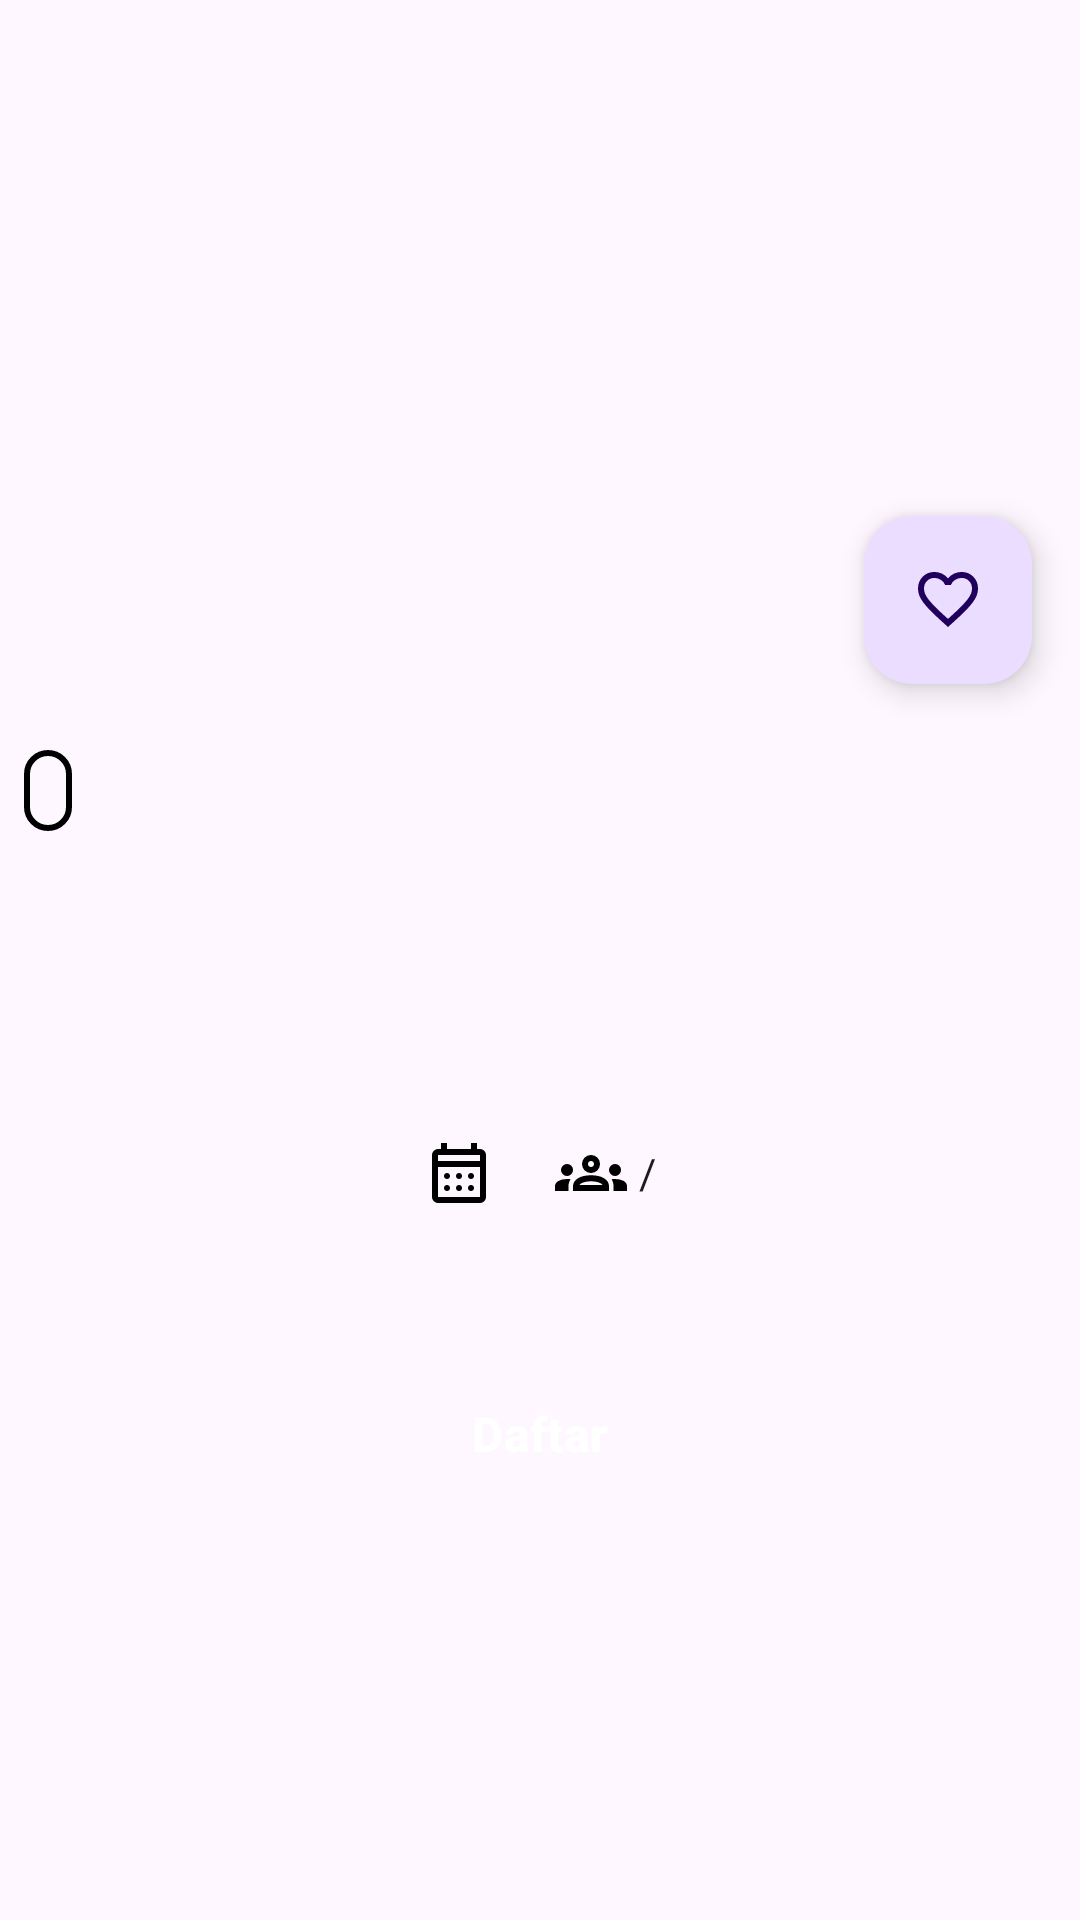

Icon bounding boxes for this 1080 × 1920 phone screenshot, format [x1, y1, x2, y2]:
calendar: [432, 1143, 486, 1203]
favorite border: [864, 516, 1032, 684]
person: [555, 1155, 627, 1191]
